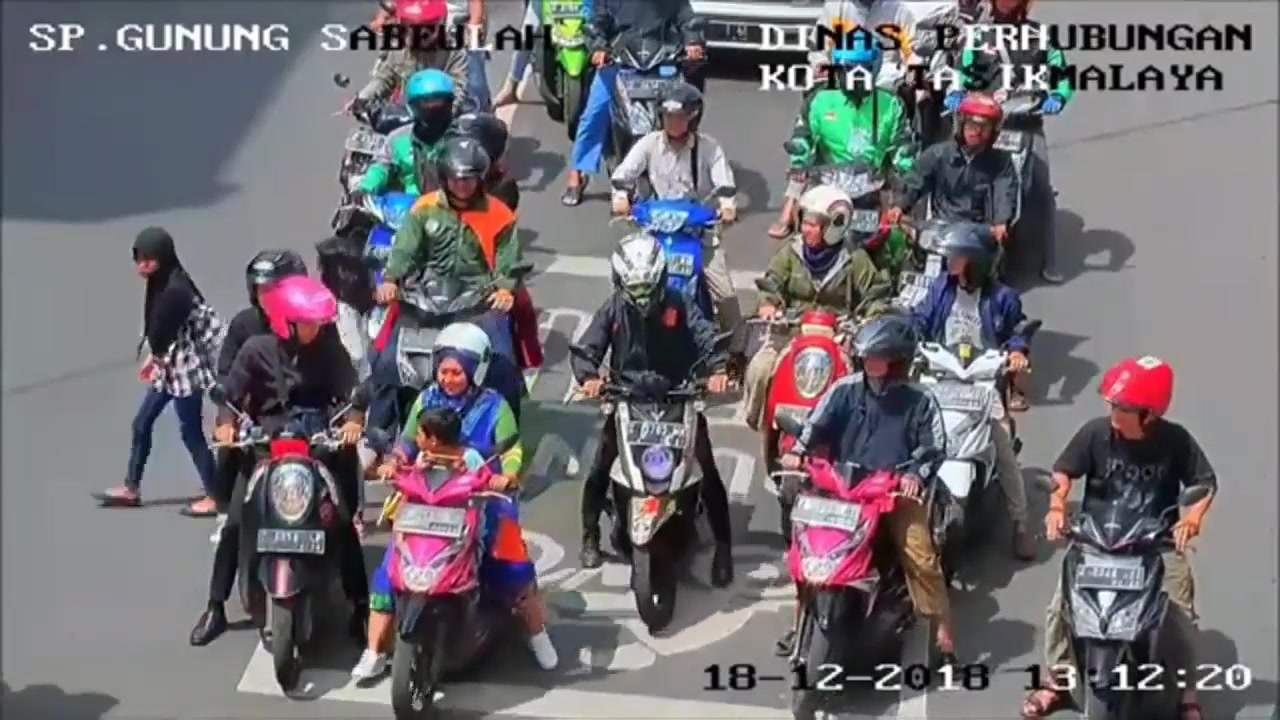person with motorcycle: (1053, 362, 1216, 689), (593, 236, 729, 612), (805, 316, 951, 633), (408, 143, 528, 361)
person without helm: (126, 212, 191, 306)
person without motorcycle: (98, 212, 238, 576)
